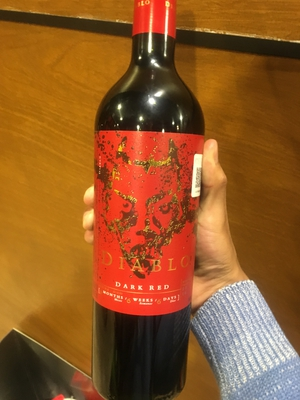diablo dark red: (90, 27, 228, 400)
